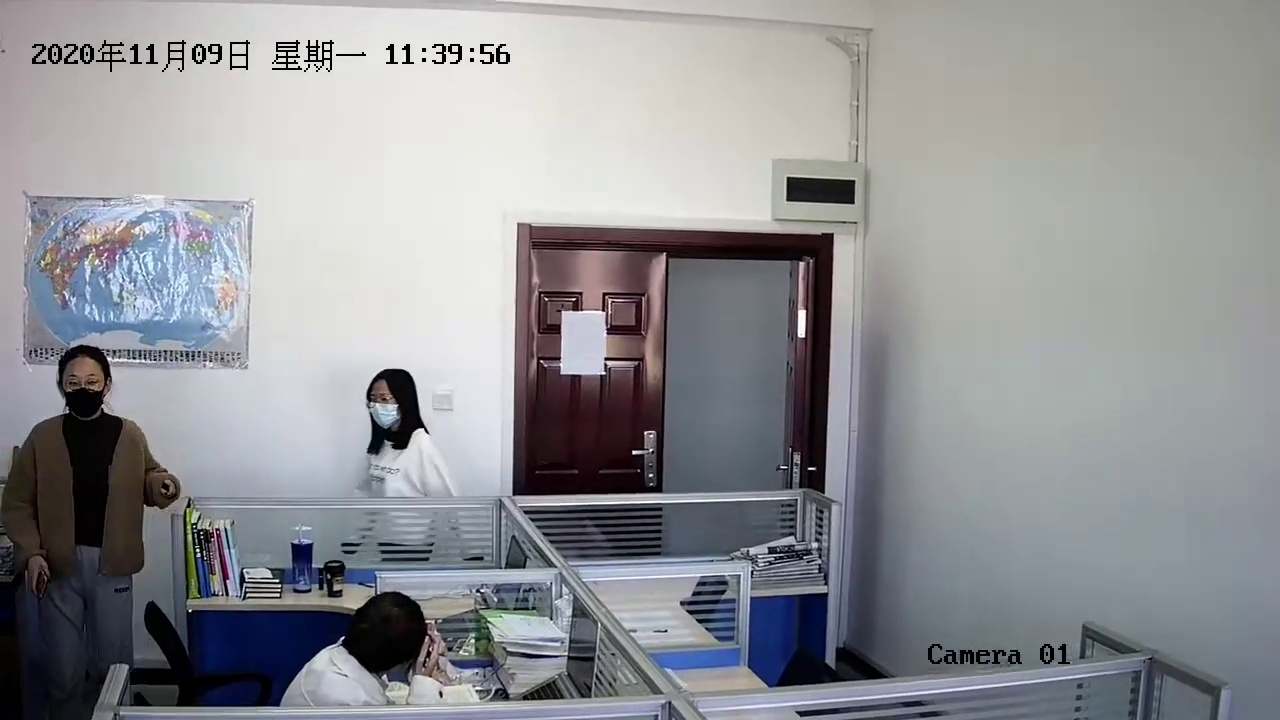mask: (55, 344, 108, 415), (363, 372, 407, 432)
